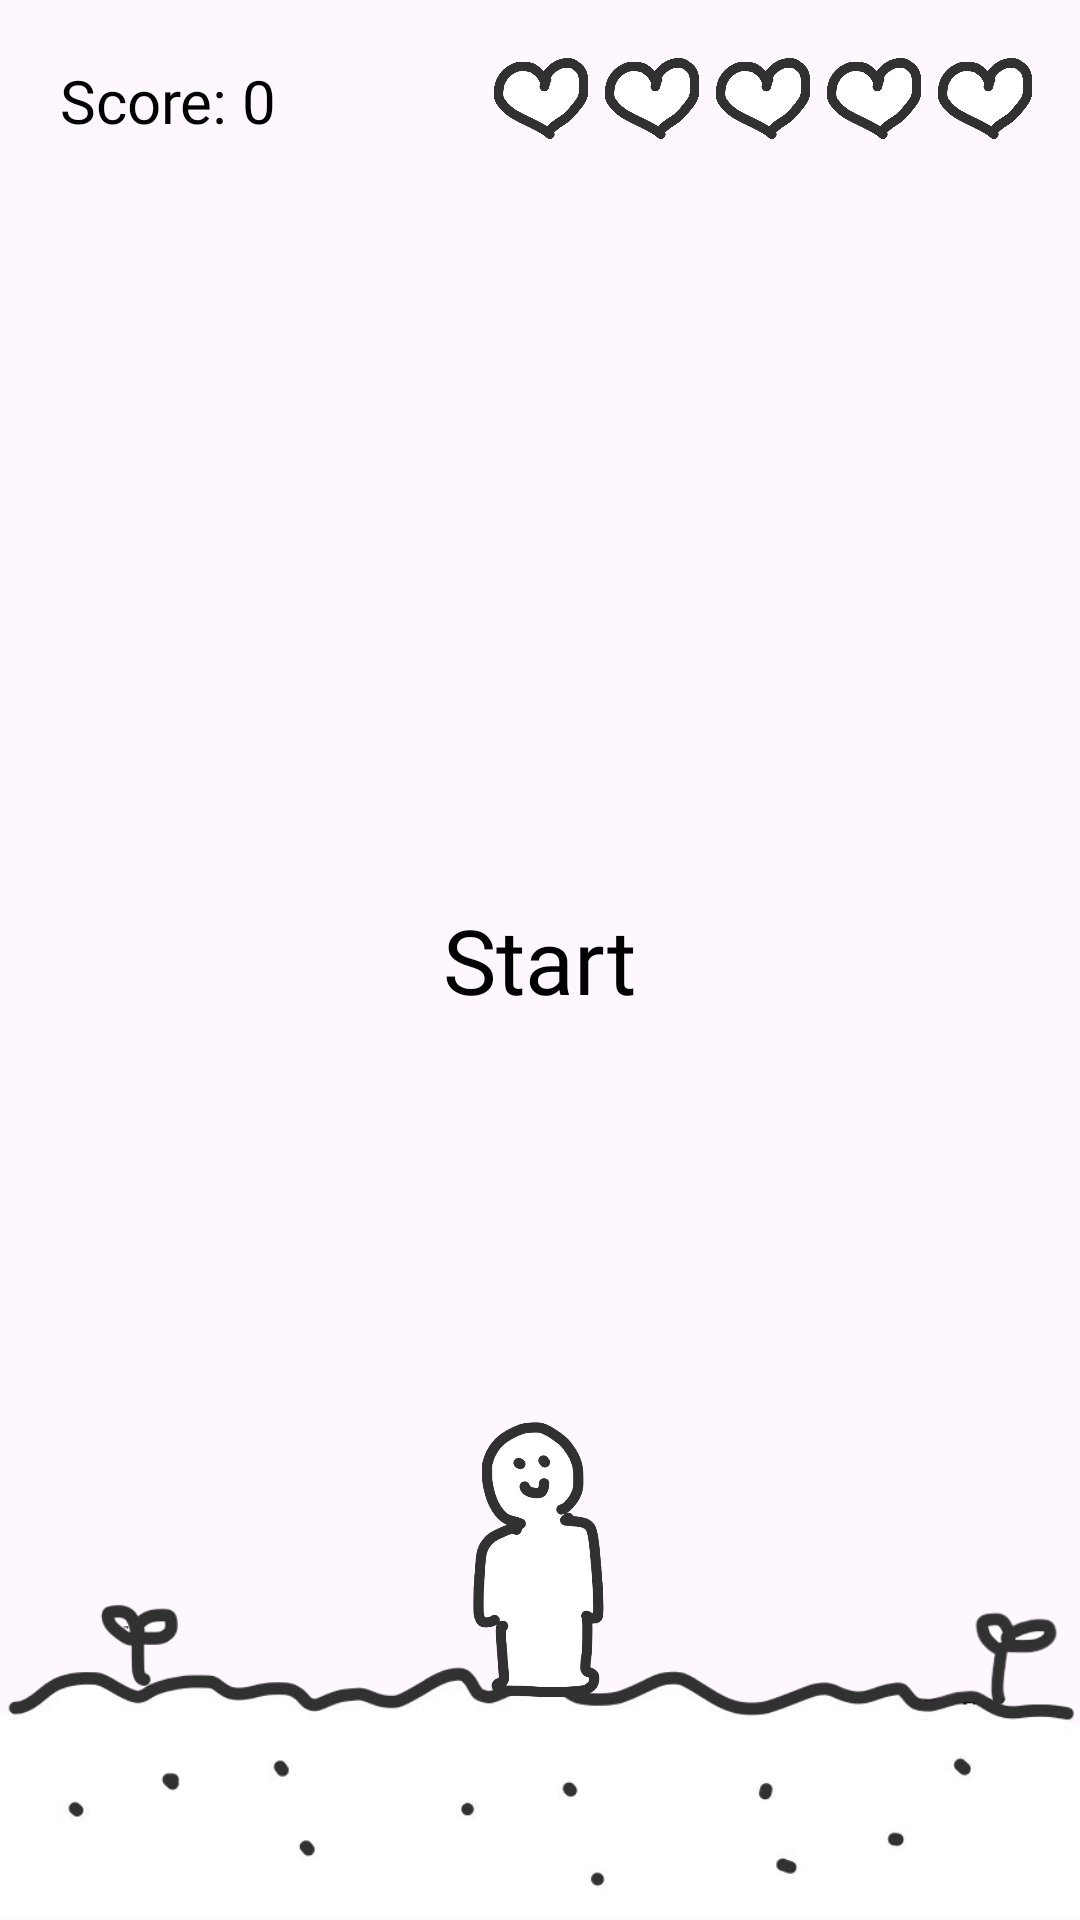

Icon click points for this 1080 x 1920 phone screenshot, format point (x, y):
character: point (540, 1565)
life: point (541, 98), point (652, 98), point (763, 98), point (874, 98), point (985, 98)
